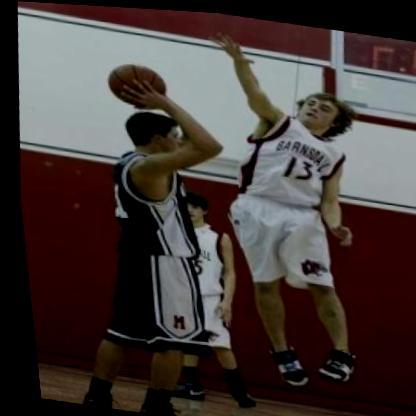basketball: (98, 53, 174, 114)
